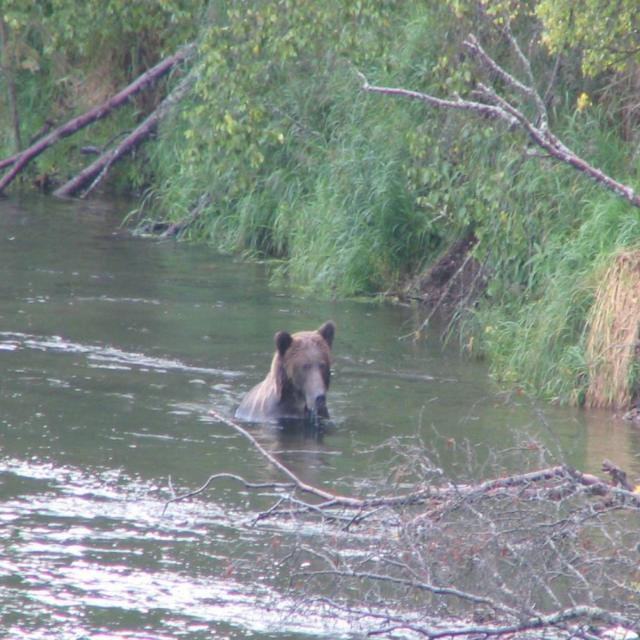bear face: (241, 319, 336, 423)
